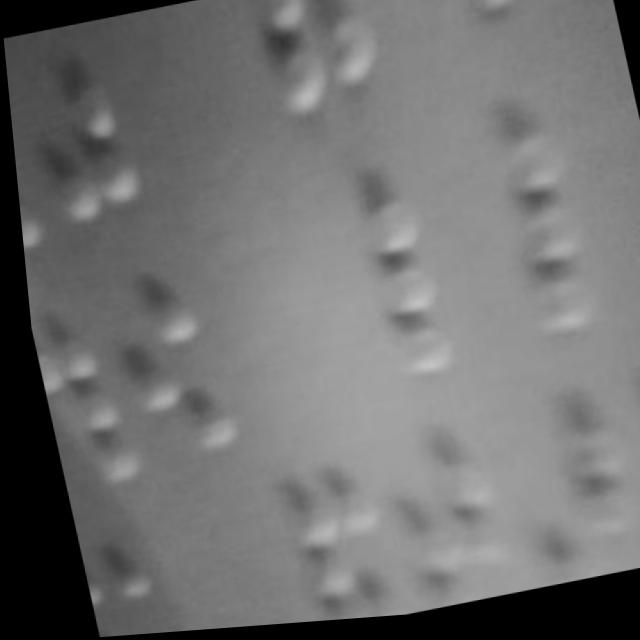braiile: (284, 179, 452, 402), (436, 129, 600, 355), (102, 266, 241, 480), (378, 440, 511, 617), (23, 295, 132, 504), (509, 417, 638, 593), (265, 469, 394, 627), (573, 121, 640, 323)
